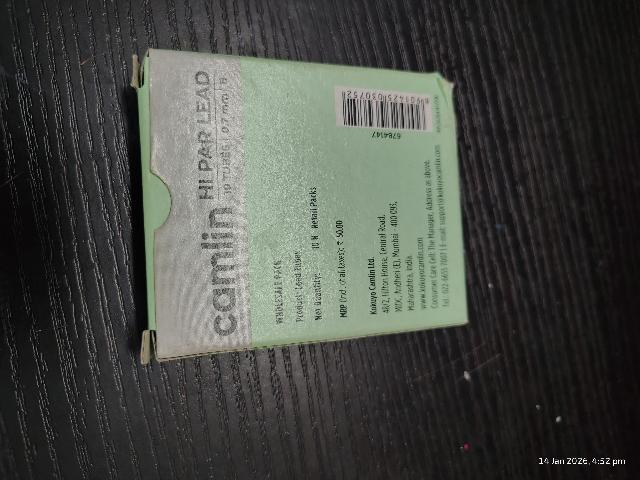camlin lids: (135, 54, 469, 346)
